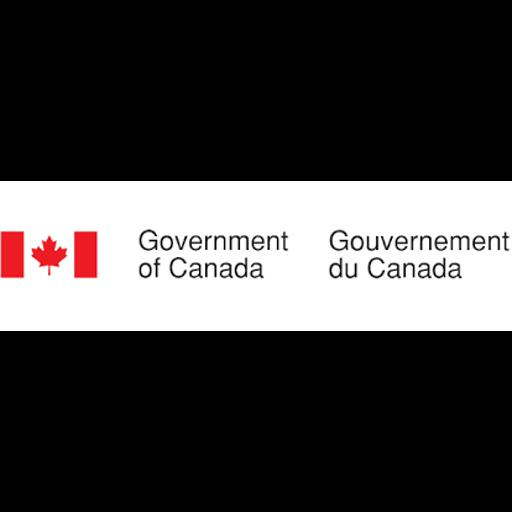Government of Canada: (0, 181, 512, 331)
